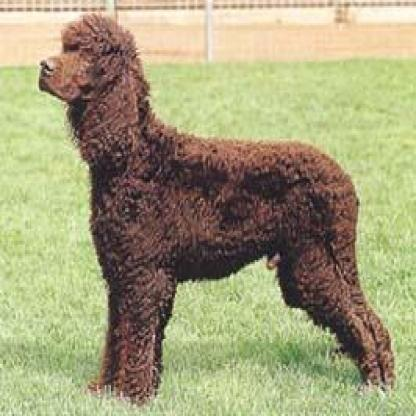Irish_water_spaniel: (21, 2, 412, 402)
